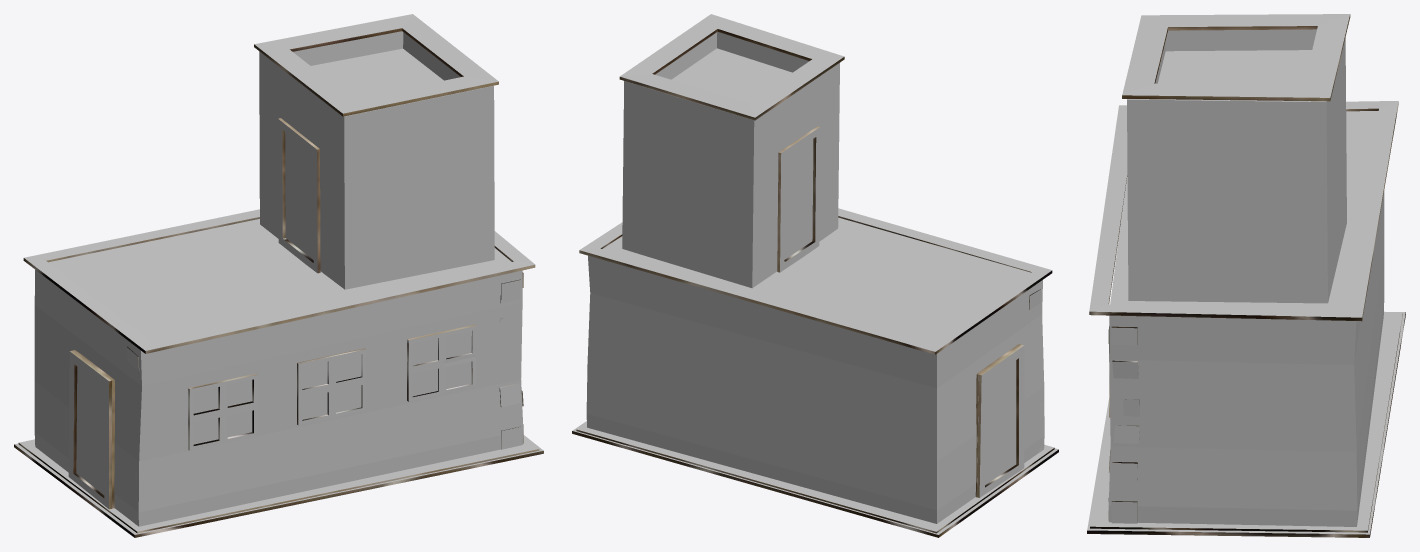
Rendered from Church.fbx.
The picture shows the model from 3 angles, left to right: view 1: azimuth 30°, elevation 25°; view 2: azimuth 150°, elevation 25°; view 3: azimuth 270°, elevation 25°; orthographic projection. The views are drawn at different scales.
Visible parts, largest first — view 1: Cube.020; view 2: Cube.020; view 3: Cube.020.
Boxes of the visible parts, x1=… form: Cube.020: x1=14, y1=14, x2=543, y2=537; Cube.020: x1=572, y1=14, x2=1058, y2=537; Cube.020: x1=1087, y1=14, x2=1405, y2=537.
Bounding box in the file's own units: 3022 × 2654 × 1816.
